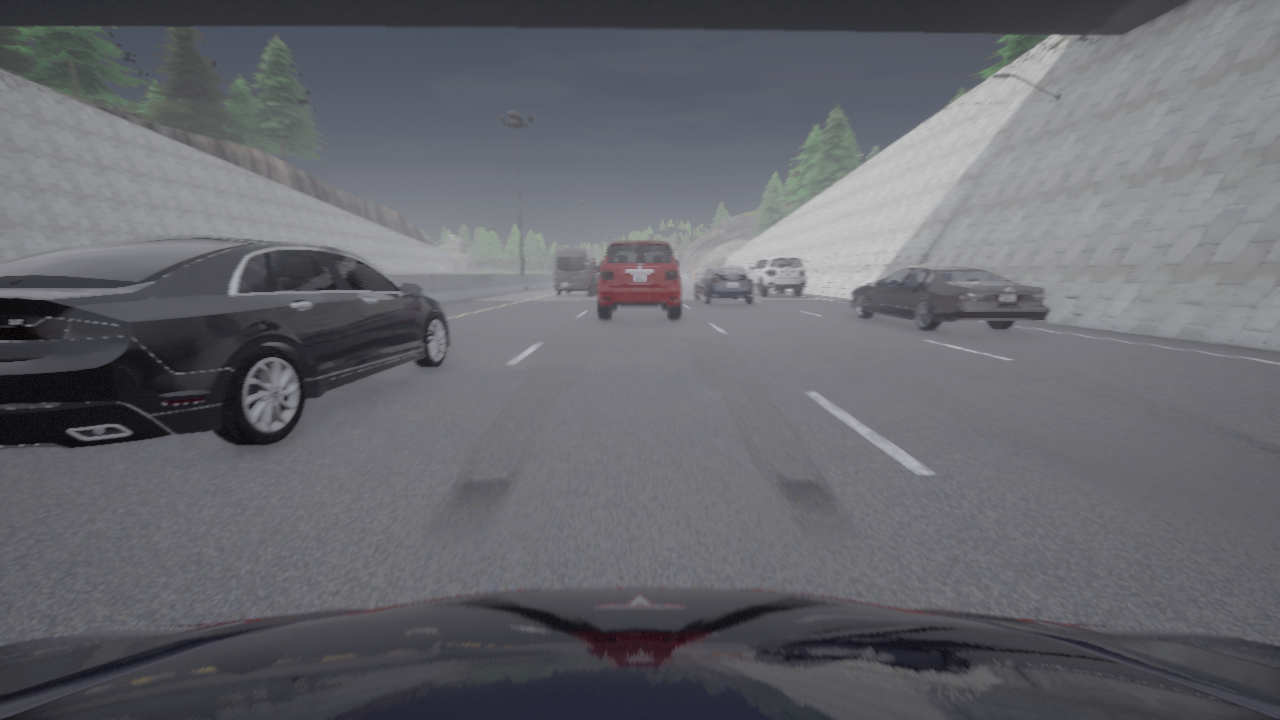cyclist: (0, 588, 1279, 719), (0, 236, 450, 449), (849, 265, 1050, 330), (598, 241, 681, 319), (553, 247, 600, 295), (695, 267, 754, 304), (747, 258, 805, 286)
